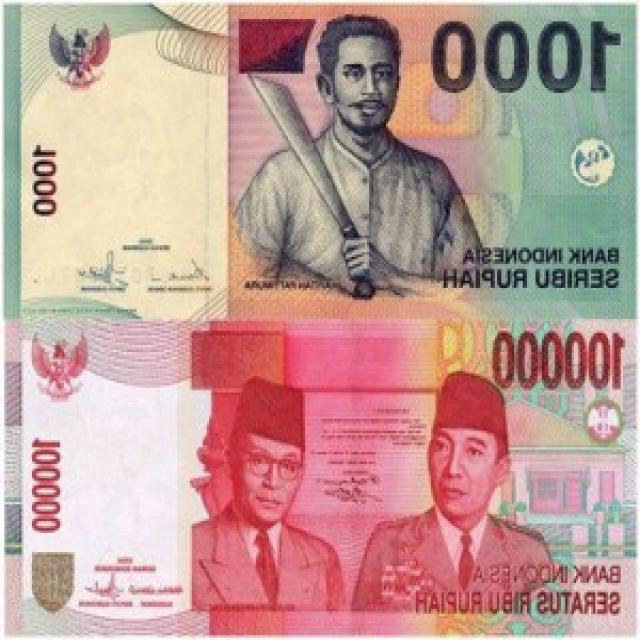seratus ribu rupiah: (0, 316, 640, 640)
seribu rupiah: (0, 0, 640, 319)
